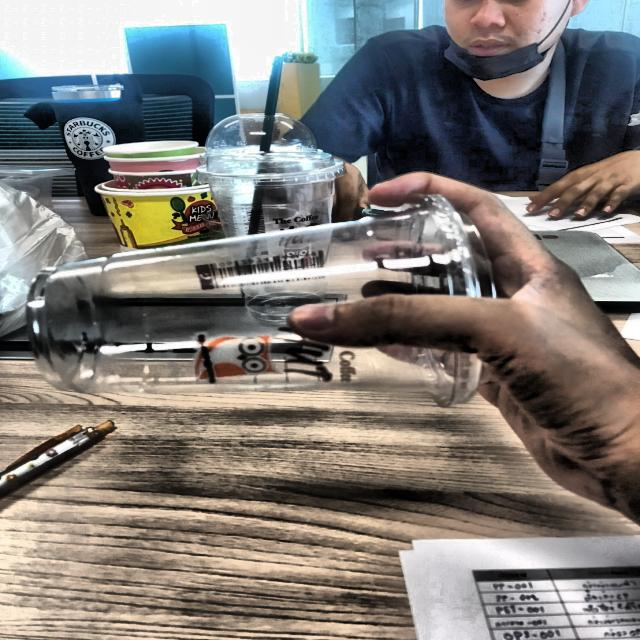plastic cup: (21, 188, 543, 417)
